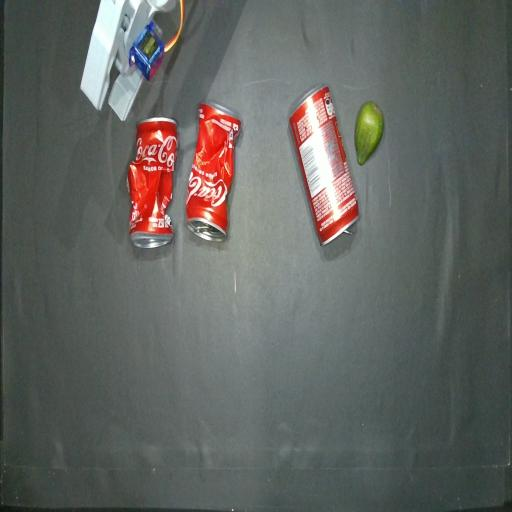higo: (355, 101, 383, 165)
lata: (289, 84, 358, 245)
lata_defectuoso: (187, 102, 240, 241), (127, 118, 179, 248)
